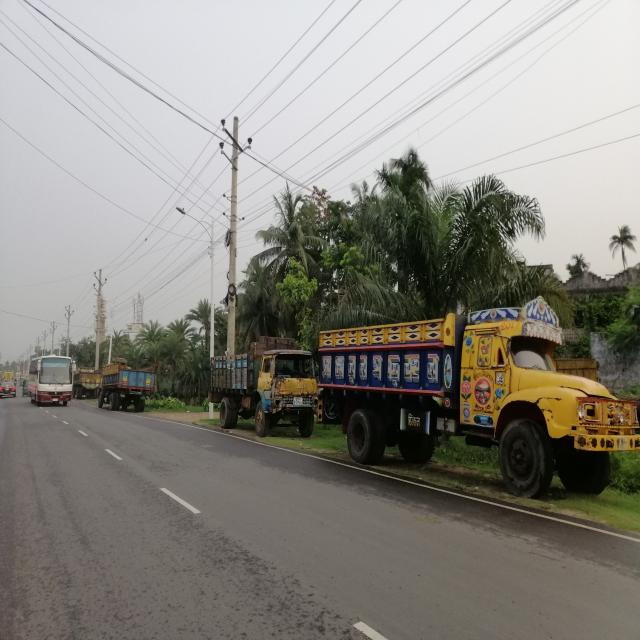Bus: (28, 352, 80, 412)
Truck: (315, 295, 640, 499), (207, 338, 316, 447), (98, 357, 157, 414)
